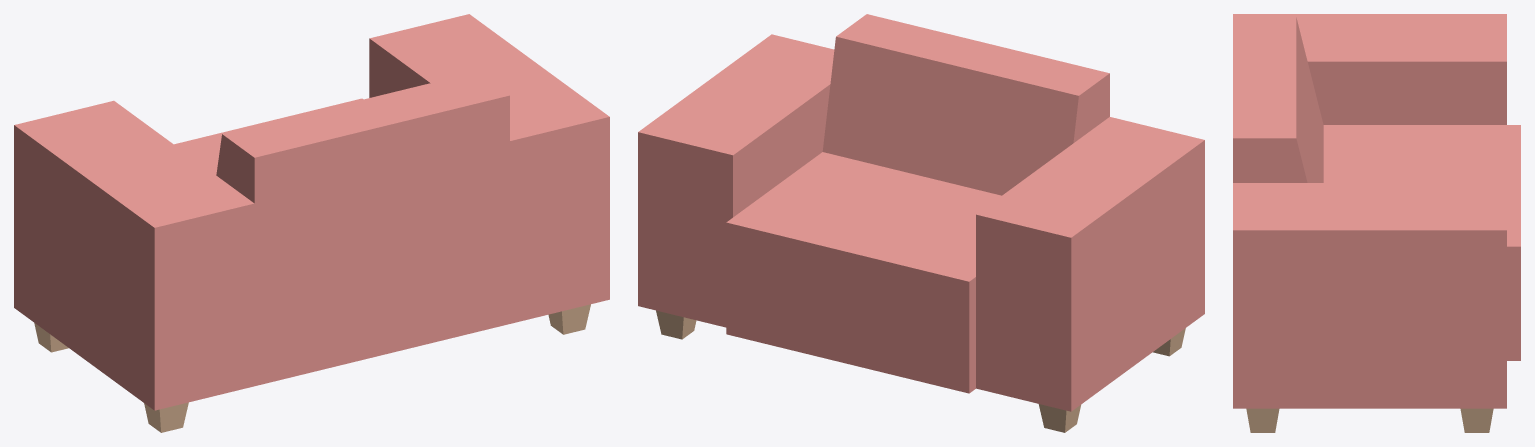
File: Furniture_Couch_Single.fbx
3 renders of one model, left to right at view 1: azimuth 30°, elevation 25°; view 2: azimuth 150°, elevation 25°; view 3: azimuth 270°, elevation 25°, orthographic. The views are drawn at different scales.
Parts seen in each view (by area): view 1: loungeDesignChair; view 2: loungeDesignChair; view 3: loungeDesignChair.
Boxes of the visible parts, left/top/right/bottom form: loungeDesignChair: left=14, top=14, right=609, bottom=432; loungeDesignChair: left=638, top=14, right=1204, bottom=432; loungeDesignChair: left=1233, top=14, right=1520, bottom=432.
Bounding box in the file's own units: 188 × 103 × 106.
